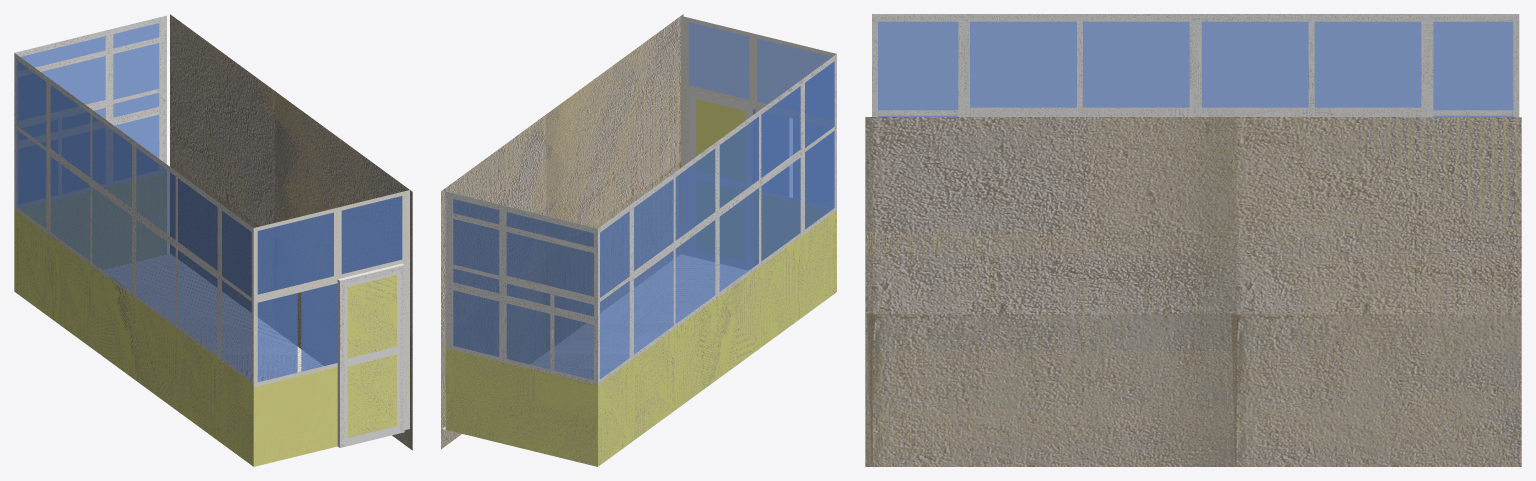
The model's file is COM013.obj.
3 views of the same model, side by side, from view 1: azimuth 30°, elevation 25°; view 2: azimuth 150°, elevation 25°; view 3: azimuth 270°, elevation 25° (orthographic). The views are drawn at different scales.
Visible parts, largest first — view 1: Mesh5 CUA013 Model, Mesh6 CUA013 Model, Mesh1 puerta5_1 CUA013 Model; view 2: Mesh5 CUA013 Model, Mesh6 CUA013 Model, Mesh1 puerta5_1 CUA013 Model; view 3: Mesh6 CUA013 Model, Mesh5 CUA013 Model.
Boxes of the visible parts, x1,y1,x2,y2 form: Mesh5 CUA013 Model: (14,15,409,466); Mesh6 CUA013 Model: (170,14,412,450); Mesh1 puerta5_1 CUA013 Model: (337,263,404,447); Mesh5 CUA013 Model: (442,16,836,466); Mesh6 CUA013 Model: (441,14,683,449); Mesh1 puerta5_1 CUA013 Model: (688,89,754,270); Mesh6 CUA013 Model: (865,117,1521,466); Mesh5 CUA013 Model: (872,14,1519,117).
Size of the model in its own units: 2.06 by 3.25 by 5.53.
8 materials, 2 textured.
